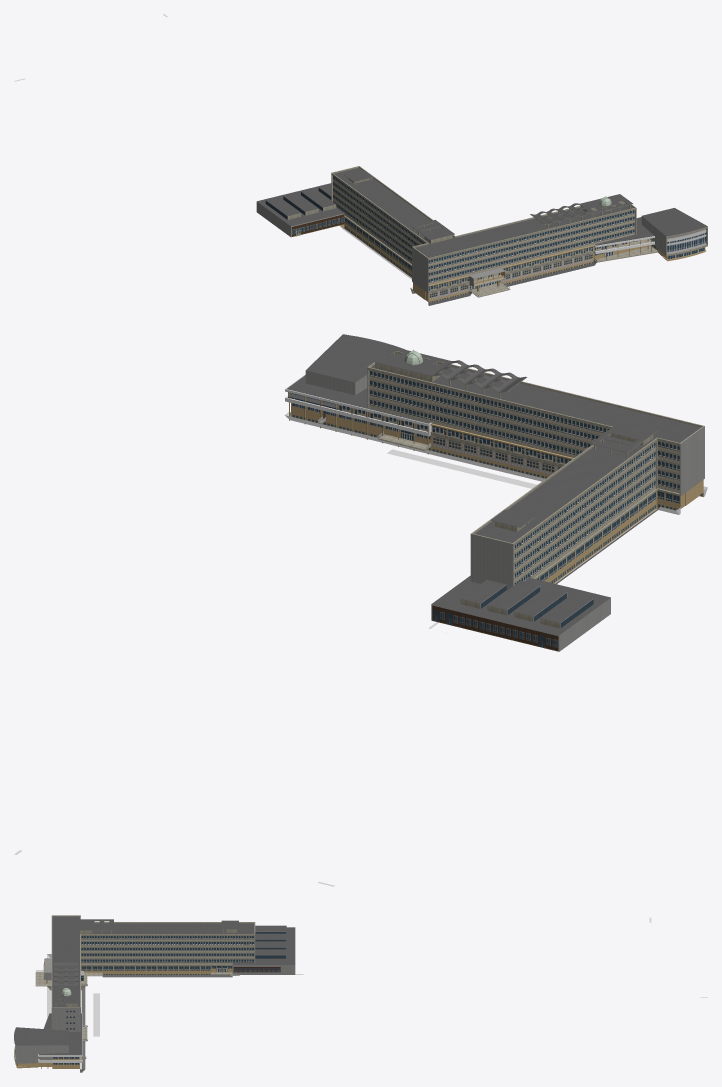
File: tuke.glb
3 renders of one model, top to bottom at view 1: azimuth 30°, elevation 25°; view 2: azimuth 150°, elevation 25°; view 3: azimuth 270°, elevation 25°, orthographic. The views are drawn at different scales.
Parts seen in each view (by area): view 1: G-Object.148, G-Object.004, _G-Object.147 (Loose Mesh), G-Object.086, G-Object.003, _G-Object (Loose Mesh), G-Object.175, G-Object.172; view 2: G-Object.148, _G-Object.147 (Loose Mesh), G-Object.004, G-Object.085, G-Object.086, G-Object.003, G-Object.015, G-Object.175, G-Object.172, C-Stresne okna.001, C-Stresne okna.002, C-Stresne okna (+1 smaller); view 3: G-Object.148, G-Object.004, _G-Object.147 (Loose Mesh), _G-Object.091 (Loose Mesh), G-Object.003, G-Object.016, G-Object.175, G-Object.172, _(Loose Entity), C-Stresne okna.003, G-Object.015, C-Stresne okna (+3 smaller).
Boxes of the visible parts, bbox=[...] form: G-Object.148: bbox=[331, 166, 635, 258]; G-Object.004: bbox=[641, 208, 707, 261]; _G-Object.147 (Loose Mesh): bbox=[256, 183, 344, 237]; G-Object.086: bbox=[412, 247, 428, 301]; G-Object.003: bbox=[593, 216, 654, 247]; _G-Object (Loose Mesh): bbox=[469, 267, 505, 289]; G-Object.175: bbox=[411, 220, 454, 240]; G-Object.172: bbox=[581, 194, 632, 213]; G-Object.148: bbox=[367, 351, 704, 543]; _G-Object.147 (Loose Mesh): bbox=[431, 575, 610, 651]; G-Object.004: bbox=[305, 334, 404, 395]; G-Object.085: bbox=[470, 534, 513, 590]; G-Object.086: bbox=[679, 426, 704, 508]; G-Object.003: bbox=[285, 374, 431, 426]; G-Object.015: bbox=[285, 412, 545, 481]; G-Object.175: bbox=[590, 422, 657, 452]; G-Object.172: bbox=[372, 346, 450, 376]; C-Stresne okna.001: bbox=[514, 587, 567, 621]; C-Stresne okna.002: bbox=[487, 580, 540, 615]; C-Stresne okna: bbox=[540, 593, 593, 628]; G-Object.148: bbox=[51, 915, 255, 1007]; G-Object.004: bbox=[14, 1027, 68, 1068]; _G-Object.147 (Loose Mesh): bbox=[232, 927, 295, 974]; _G-Object.091 (Loose Mesh): bbox=[51, 1007, 80, 1031]; G-Object.003: bbox=[38, 1013, 82, 1056]; G-Object.016: bbox=[87, 972, 232, 977]; G-Object.175: bbox=[78, 919, 113, 930]; G-Object.172: bbox=[54, 986, 78, 1003]; _(Loose Entity): bbox=[93, 917, 707, 1036]; C-Stresne okna.003: bbox=[255, 949, 286, 958]; G-Object.015: bbox=[80, 986, 85, 1072]; C-Stresne okna: bbox=[255, 925, 286, 933].
Size of the model in its own units: 209 by 32.82 by 400.
Materials: 35 (30 with a texture image).
